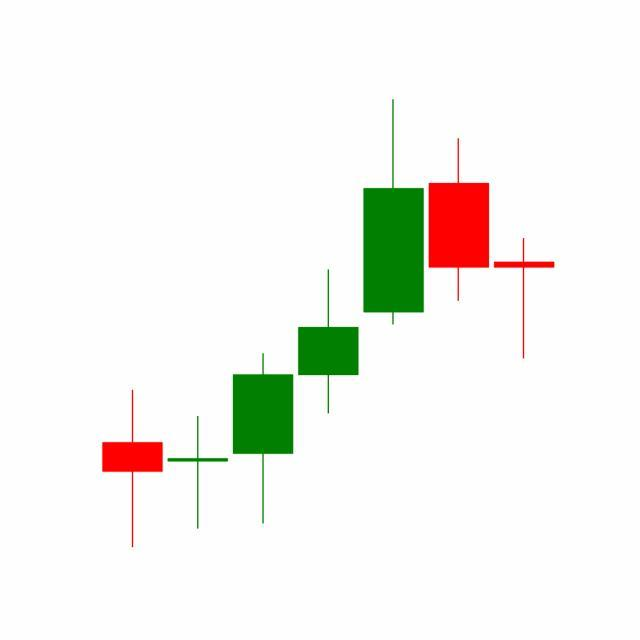Hikkake Pattern: (229, 100, 555, 530)
